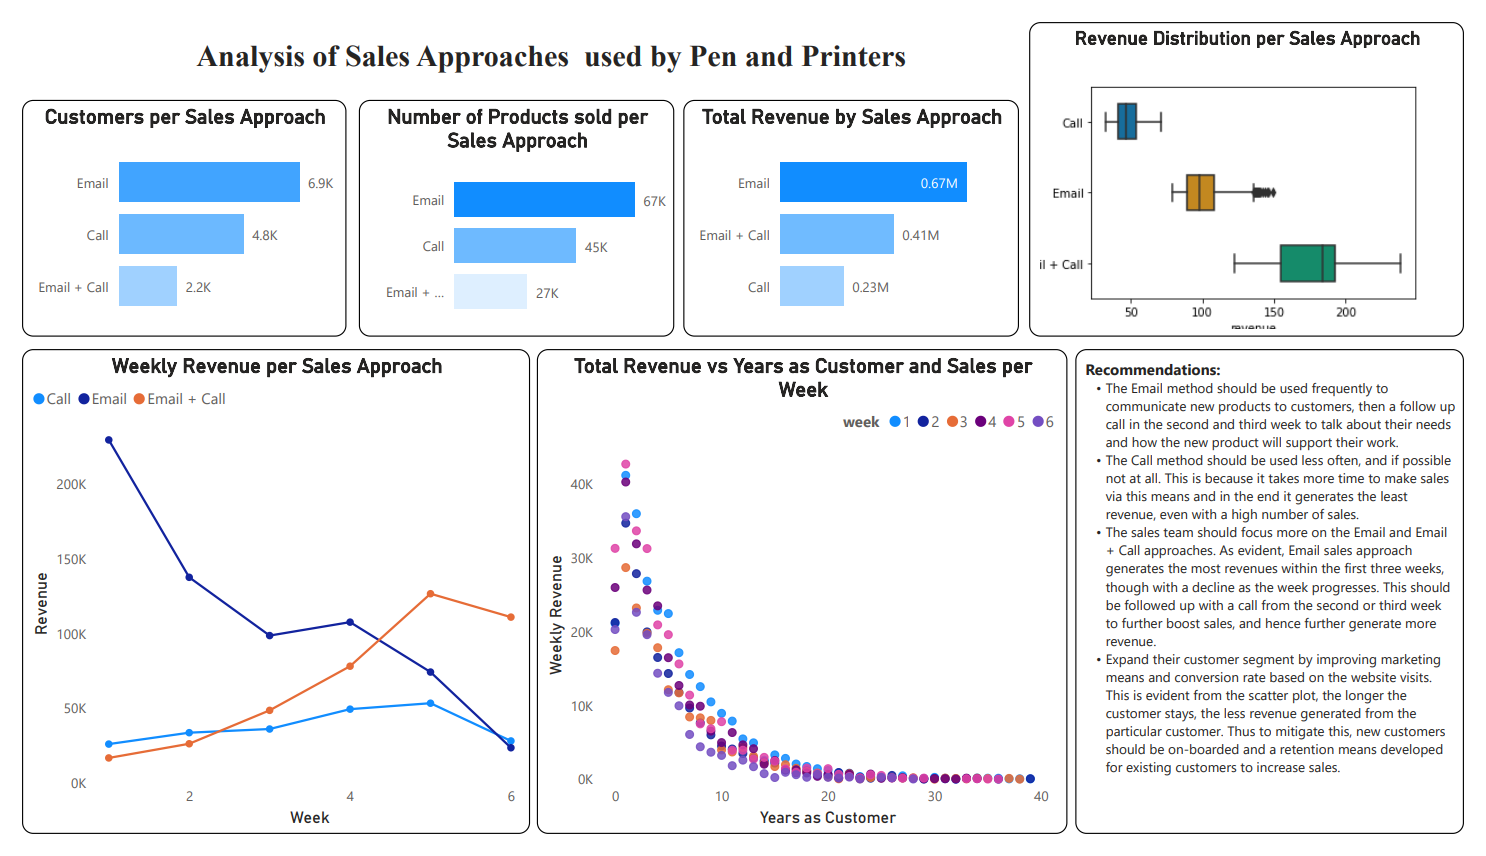

What the dashboard file says about the page in this screenshot:
{"tool":"powerbi","page":{"name":"Page 1","canvas":[1280,720],"ordinal":0},"visuals":[{"type":"clusteredBarChart","title":"Customers per Sales Approach","fields":{"Category":["sales_data.sales_method"],"Y":["sales_data.customer_id"]},"box":[0,69,288,210],"z":0},{"type":"clusteredBarChart","title":"Total Revenue by Sales Approach","fields":{"Category":["sales_data.sales_method"],"Y":["sales_data.revenue"]},"box":[587,69,298,210],"z":1000},{"type":"lineChart","title":"Weekly Revenue per Sales Approach","fields":{"Y":["sales_data.revenue"],"Series":["sales_data.sales_method"],"Category":["sales_data.week"]},"box":[0,290,451,430],"z":1001},{"type":"scatterChart","title":"Total Revenue vs Years as Customer and Sales per Week","fields":{"X":["sales_data.years_as_customer"],"Y":["sales_data.revenue"],"Series":["sales_data.week"]},"box":[457,290,471,430],"z":1002},{"type":"textbox","box":[935,290,345,430],"z":1003},{"type":"textbox","box":[150,10,665,50],"z":1004},{"type":"clusteredBarChart","title":"Number of Products sold per Sales Approach","fields":{"Category":["sales_data.sales_method"],"Y":["sales_data.nb_sold"]},"box":[299,69,280,210],"z":1005},{"type":"pythonVisual","title":"Revenue Distribution per Sales Approach","fields":{"Values":["sales_data.sales_method","sales_data.revenue"]},"box":[894,0,386,279],"z":1006}]}

Visuals, with their boxes in screenshot pixels (x1, y1, x2, y2), scaled from the page's 1280x720 canvas onto the 1486x856 screenshot:
"Customers per Sales Approach" clusteredBarChart: 0/82/334/332
"Total Revenue by Sales Approach" clusteredBarChart: 681/82/1027/332
"Weekly Revenue per Sales Approach" lineChart: 0/345/524/855
"Total Revenue vs Years as Customer and Sales per Week" scatterChart: 531/345/1077/855
textbox: 1085/345/1485/855
textbox: 174/12/946/71
"Number of Products sold per Sales Approach" clusteredBarChart: 347/82/672/332
"Revenue Distribution per Sales Approach" pythonVisual: 1038/0/1485/332
